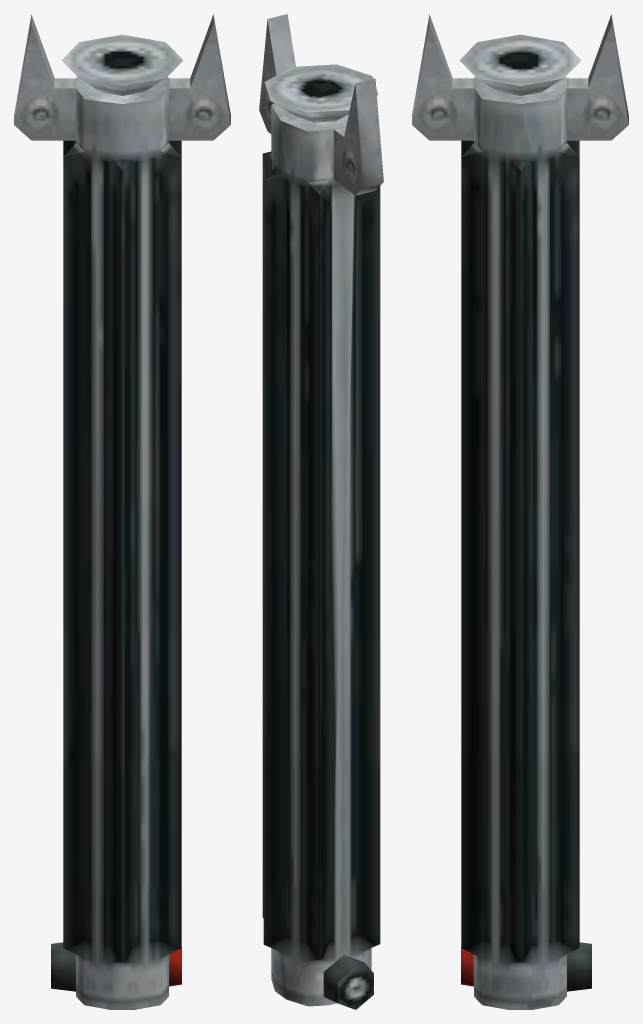
File: wp_mle_sword_lightsaber_nebu_l0.fbx
3 renders of one model, left to right at view 1: azimuth 90°, elevation 25°; view 2: azimuth 210°, elevation 25°; view 3: azimuth 270°, elevation 25°, orthographic. The views are drawn at different scales.
Parts seen in each view (by area): view 1: mesh_node; view 2: mesh_node; view 3: mesh_node.
Part boxes in pixels (x1,y1,x2,y2): mesh_node: (14,14,230,1009); mesh_node: (259,14,383,1009); mesh_node: (412,14,628,1009).
Bounding box in the file's own units: 0.0388 × 0.3014 × 0.0609.
Materials: 1 (1 with a texture image).
